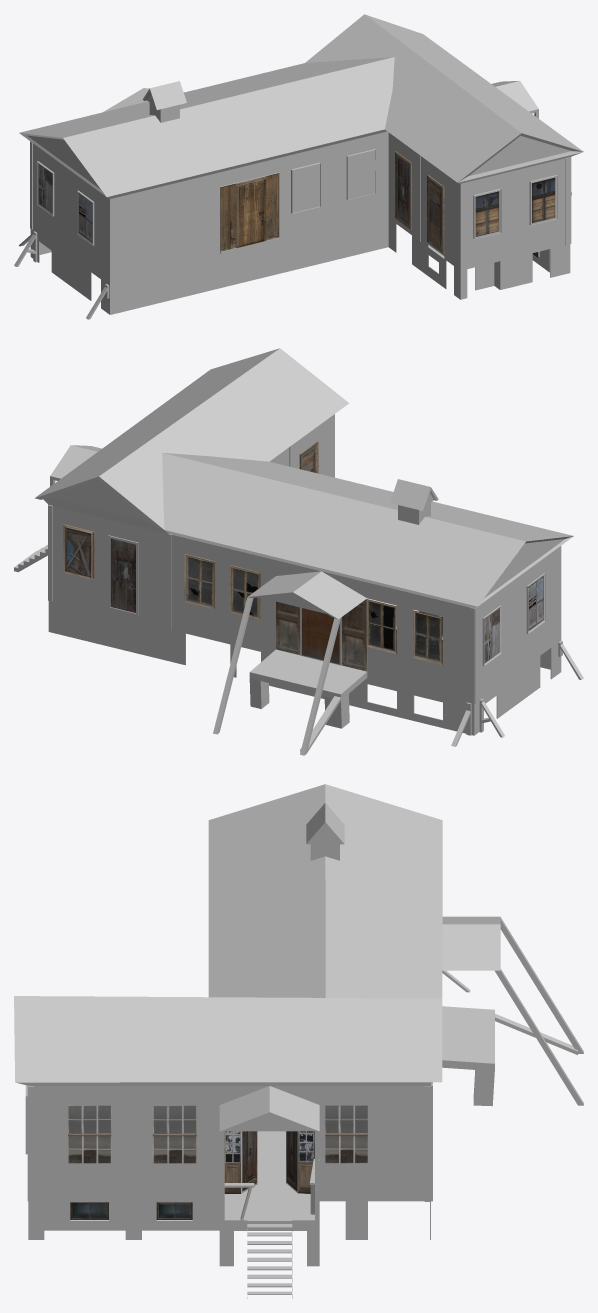
The model's file is house-final.fbx.
3 renders of one model, top to bottom at view 1: azimuth 30°, elevation 25°; view 2: azimuth 150°, elevation 25°; view 3: azimuth 270°, elevation 25°, orthographic. The views are drawn at different scales.
Parts seen in each view (by area): view 1: dach.001, sciany-ZEWNETRZNE, piwnica, drzwi, OKNA.000, dach.004, drzwi.004, OKNA.001, OKNA.-ramy, dach.002, dach.003, komin (+4 smaller); view 2: dach.001, sciany-ZEWNETRZNE, piwnica, OKNA.002, ALTANKA2.005, OKNA.-ramy, sciany - zewn- drzwi, dach.004, ALTANKA2.001, ALTANKA2.003, dach.003, KATY - DESKI (+8 smaller); view 3: dach.001, sciany-ZEWNETRZNE, OKNA - NOWE, piwnica, ALTANKA2.005, ALTANKA2.003, ALTANKI.003, ALTANKA2.001, ALTANKI.002, schody, sciany - zewn- drzwi, podłoga (+10 smaller).
Boxes of the visible parts, x1,y1,x2,y2 form: dach.001: (19,14,583,196); sciany-ZEWNETRZNE: (33,131,564,285); piwnica: (30,218,570,314); drzwi: (220,173,278,251); OKNA.000: (291,149,375,213); dach.004: (27,135,571,189); drzwi.004: (395,151,444,253); OKNA.001: (475,177,555,236); OKNA.-ramy: (37,161,557,245); dach.002: (19,133,583,196); dach.003: (107,129,581,198); komin: (142,81,186,122); dach.001: (35,348,572,606); sciany-ZEWNETRZNE: (53,414,561,702); piwnica: (48,601,561,735); OKNA.002: (66,527,440,661); ALTANKA2.005: (249,649,367,699); OKNA.-ramy: (63,524,545,665); sciany - zewn- drzwi: (276,599,367,671); dach.004: (48,479,564,597); ALTANKA2.001: (213,592,340,755); ALTANKA2.003: (248,571,366,619); dach.003: (43,497,477,608); KATY - DESKI: (48,445,477,703); dach.001: (14,784,442,1082); sciany-ZEWNETRZNE: (34,1086,424,1201); OKNA - NOWE: (68,1105,367,1163); piwnica: (28,1201,430,1239); ALTANKA2.005: (442,1006,494,1071); ALTANKA2.003: (442,916,500,970); ALTANKI.003: (219,1194,319,1227); ALTANKA2.001: (495,917,583,1105); ALTANKI.002: (219,1086,319,1131); schody: (247,1220,292,1298); sciany - zewn- drzwi: (224,1131,314,1193); podłoga: (241,1131,297,1193).
Size of the model in its own units: 3562 by 1254 by 2681.
